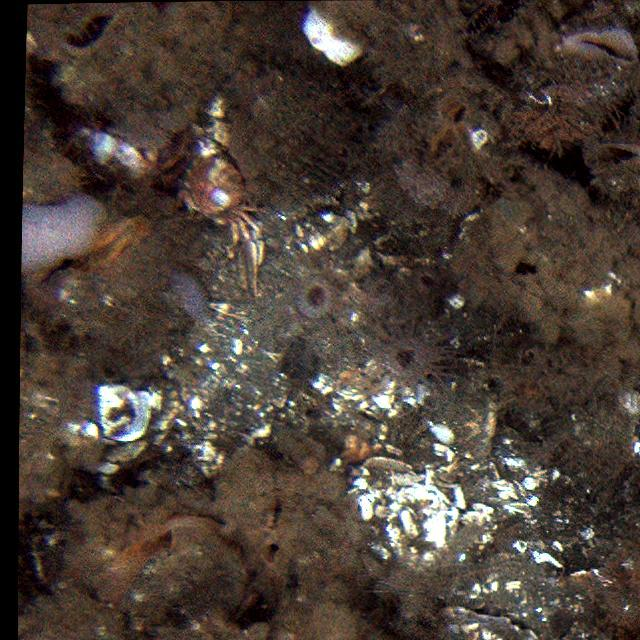crab: (186, 150, 273, 296)
